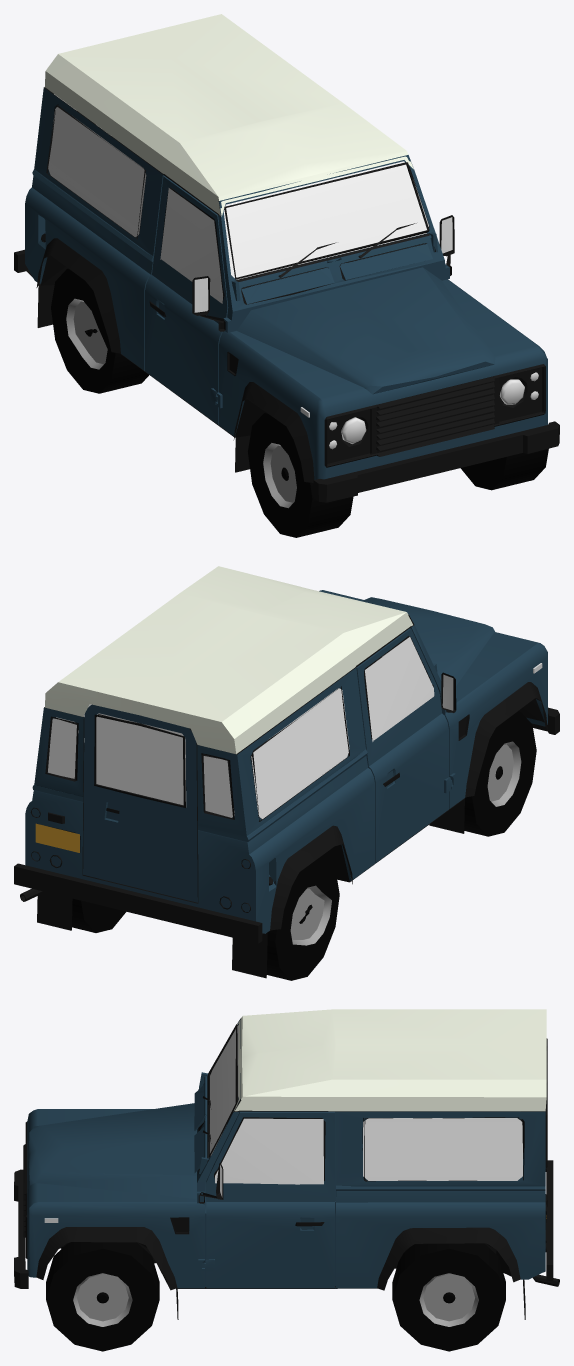
The picture shows the model from 3 angles, top to bottom: view 1: azimuth 30°, elevation 25°; view 2: azimuth 150°, elevation 25°; view 3: azimuth 270°, elevation 25°; orthographic projection. The views are drawn at different scales.
Parts seen in each view (by area): view 1: Circle.055, Circle.060, Circle.061, Circle.056, Circle.078, wheelllll.001, wheelllll, Circle.068, Circle.080, Circle.058, Circle.057, Circle.072 (+3 smaller); view 2: Circle.055, Circle.060, Circle.061, Circle.065, wheelllll, Circle.078, wheelllll.001, Circle.068, Circle.056, Circle.072, Circle.057, Circle.058 (+1 smaller); view 3: Circle.055, Circle.060, Circle.061, Circle.056, wheelllll.001, wheelllll, Circle.058, Circle.057, Circle.078, Circle.072, Circle.068, Circle.080 (+1 smaller).
Part boxes in pixels (bbox=[...]): Circle.055: bbox=[25, 87, 547, 479]; Circle.060: bbox=[45, 14, 413, 216]; Circle.061: bbox=[48, 94, 428, 303]; Circle.056: bbox=[237, 267, 495, 394]; Circle.078: bbox=[14, 249, 559, 502]; wheelllll.001: bbox=[248, 412, 548, 537]; wheelllll: bbox=[51, 268, 148, 393]; Circle.068: bbox=[37, 215, 454, 472]; Circle.080: bbox=[241, 244, 432, 304]; Circle.058: bbox=[36, 238, 120, 353]; Circle.057: bbox=[233, 382, 314, 482]; Circle.072: bbox=[46, 104, 429, 279]; Circle.055: bbox=[25, 590, 547, 933]; Circle.060: bbox=[45, 566, 412, 754]; Circle.061: bbox=[48, 637, 434, 818]; Circle.065: bbox=[83, 704, 198, 902]; wheelllll: bbox=[72, 855, 339, 980]; Circle.078: bbox=[14, 707, 559, 943]; wheelllll.001: bbox=[464, 711, 536, 836]; Circle.068: bbox=[30, 672, 469, 978]; Circle.056: bbox=[361, 597, 494, 685]; Circle.072: bbox=[45, 686, 349, 821]; Circle.057: bbox=[465, 682, 547, 797]; Circle.058: bbox=[270, 825, 352, 930]; Circle.055: bbox=[27, 1018, 545, 1288]; Circle.060: bbox=[234, 1009, 546, 1111]; Circle.061: bbox=[210, 1025, 522, 1184]; Circle.056: bbox=[28, 1103, 196, 1198]; wheelllll.001: bbox=[46, 1242, 159, 1351]; wheelllll: bbox=[392, 1243, 505, 1351]; Circle.058: bbox=[377, 1227, 520, 1290]; Circle.057: bbox=[36, 1227, 177, 1290]; Circle.078: bbox=[14, 1121, 553, 1288]; Circle.072: bbox=[208, 1024, 547, 1181]; Circle.068: bbox=[170, 1096, 547, 1319]; Circle.080: bbox=[194, 1084, 204, 1172].
Size of the model in its own units: 147 by 155 by 303.
